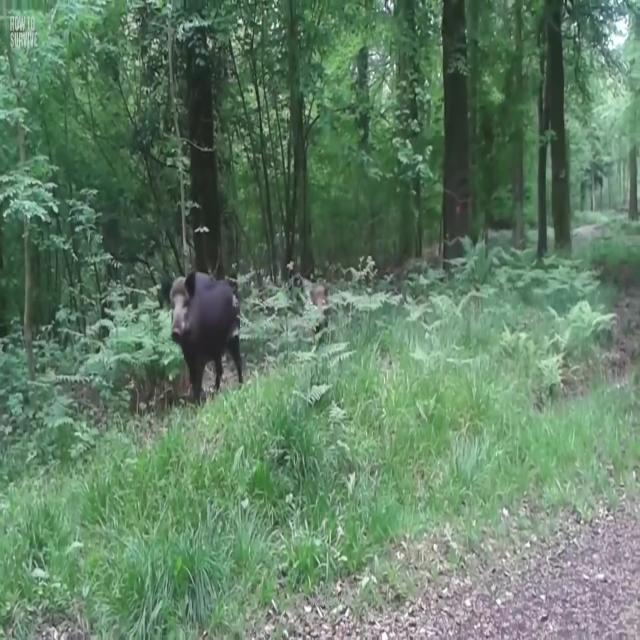pig: (151, 240, 259, 403)
